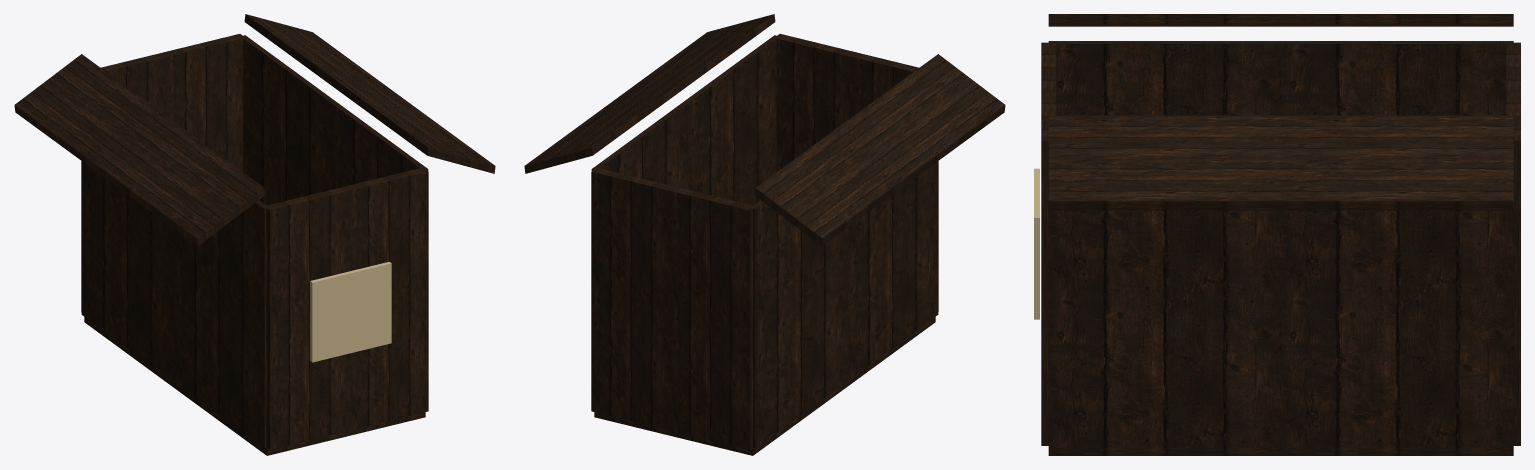
3 renders of one model, left to right at view 1: azimuth 30°, elevation 25°; view 2: azimuth 150°, elevation 25°; view 3: azimuth 270°, elevation 25°, orthographic. The views are drawn at different scales.
Parts seen in each view (by area): view 1: c-box; view 2: c-box; view 3: c-box.
Part boxes in pixels (x1,y1,x2,y2): c-box: [14, 14, 495, 455]; c-box: [524, 14, 1005, 455]; c-box: [1034, 14, 1520, 455].
Size of the model in its own units: 0.36 by 0.31 by 0.4.
2 materials, 1 textured.
